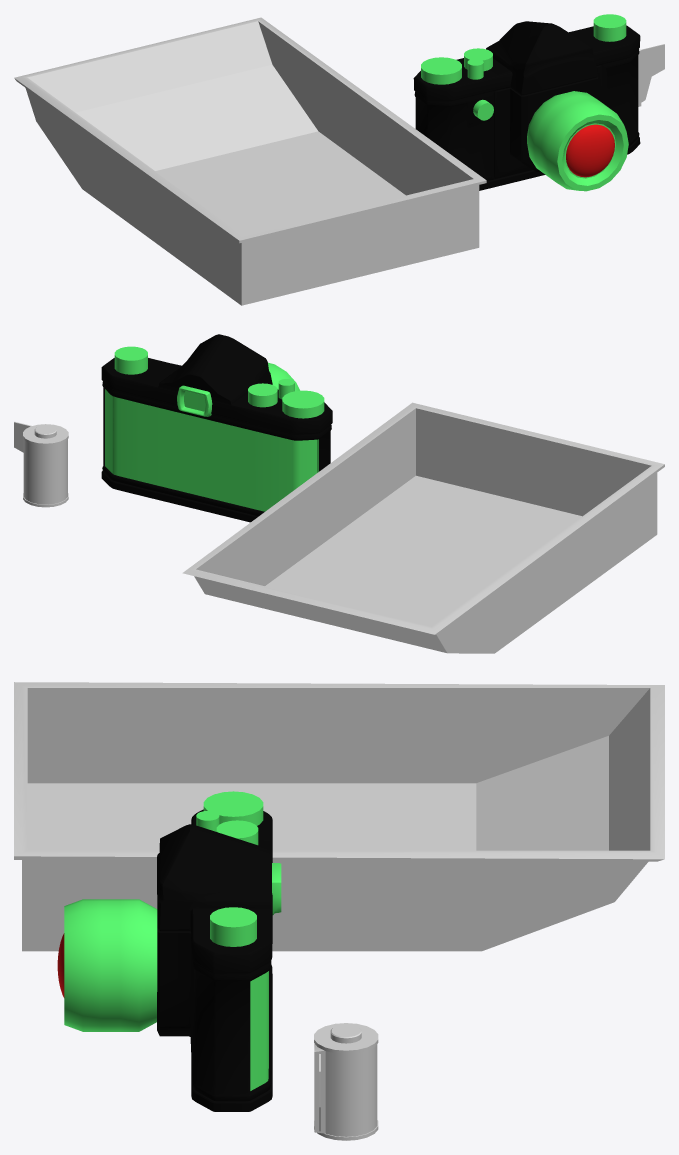
The model's file is CameraProps.fbx.
The picture shows the model from 3 angles, top to bottom: view 1: azimuth 30°, elevation 25°; view 2: azimuth 150°, elevation 25°; view 3: azimuth 270°, elevation 25°; orthographic projection. The views are drawn at different scales.
Visible parts, largest first — view 1: Tray, Cam_Body, Film; view 2: Tray, Cam_Body, Cam_Open, Film; view 3: Tray, Cam_Body, Film, Cam_Open.
Boxes of the visible parts, x1,y1,x2,y2 form: Tray: (14, 17, 486, 305); Cam_Body: (413, 14, 640, 191); Film: (638, 44, 664, 106); Tray: (182, 402, 664, 653); Cam_Body: (101, 334, 332, 522); Cam_Open: (105, 389, 318, 511); Film: (14, 421, 68, 507); Tray: (14, 682, 664, 951); Cam_Body: (57, 791, 281, 1111); Film: (314, 1023, 378, 1140); Cam_Open: (250, 971, 268, 1090).
Bounding box in the file's own units: 96.1 × 25.82 × 70.65.
